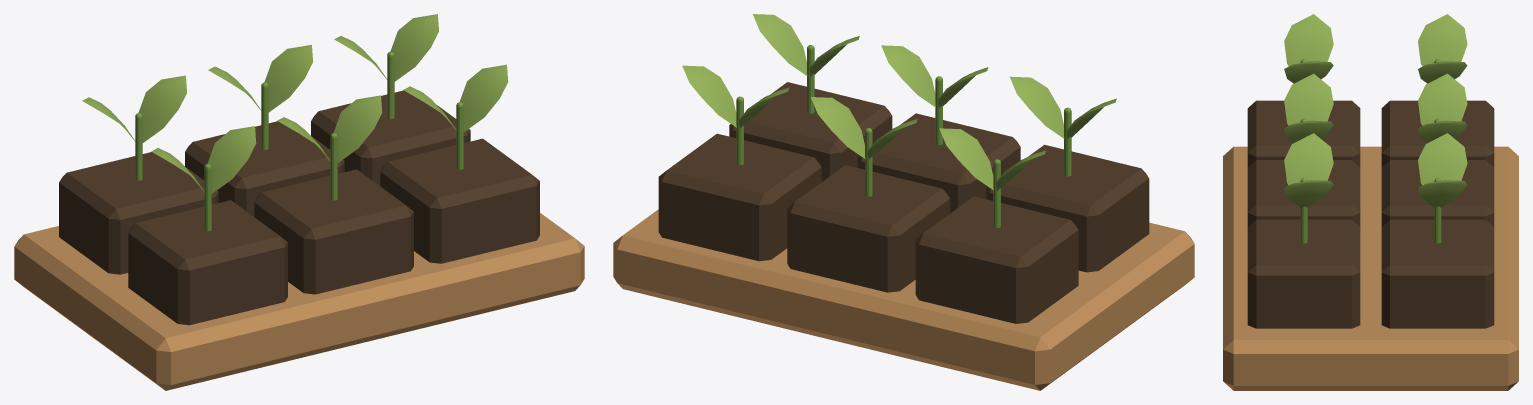
The model's file is seedling-tray.glb.
The picture shows the model from 3 angles, left to right: view 1: azimuth 30°, elevation 25°; view 2: azimuth 150°, elevation 25°; view 3: azimuth 270°, elevation 25°; orthographic projection. The views are drawn at different scales.
Visible parts, largest first — view 1: seedling_tray; view 2: seedling_tray; view 3: seedling_tray.
Boxes of the visible parts, x1,y1,x2,y2 form: seedling_tray: (14,14,584,390); seedling_tray: (613,14,1194,390); seedling_tray: (1223,14,1518,390).
Bounding box in the file's own units: 0.68 × 0.3075 × 0.42.
